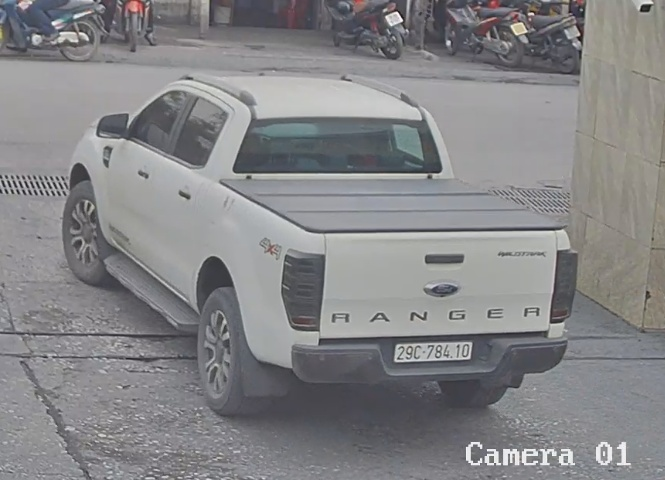vehicle plate: (394, 339, 474, 363)
